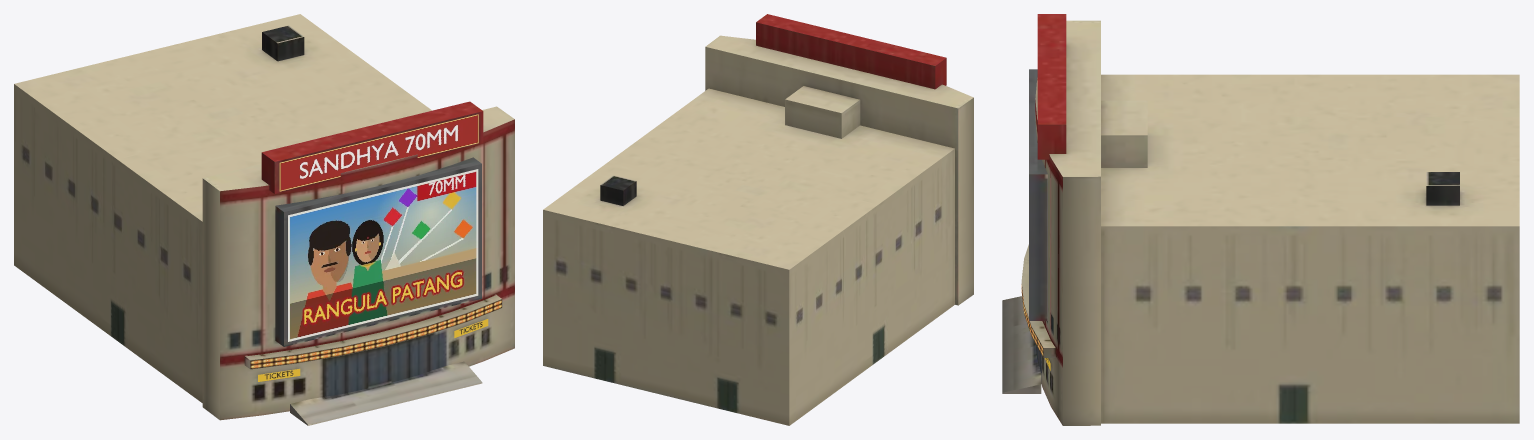
File: sandhya_theatre.glb
3 views of the same model, side by side, from view 1: azimuth 30°, elevation 25°; view 2: azimuth 150°, elevation 25°; view 3: azimuth 270°, elevation 25° (orthographic). The views are drawn at different scales.
Visible parts, largest first — view 1: sandhya_theatre_body, sandhya_theatre_sheet; view 2: sandhya_theatre_body; view 3: sandhya_theatre_body.
Boxes of the visible parts, x1,y1,x2,y2 form: sandhya_theatre_body: (14,14,514,425); sandhya_theatre_sheet: (250,114,501,381); sandhya_theatre_body: (543,14,973,425); sandhya_theatre_body: (1002,14,1519,425).
Bounding box in the file's own units: 68.2 × 56.6 × 95.3.
2 materials, 2 textured.
